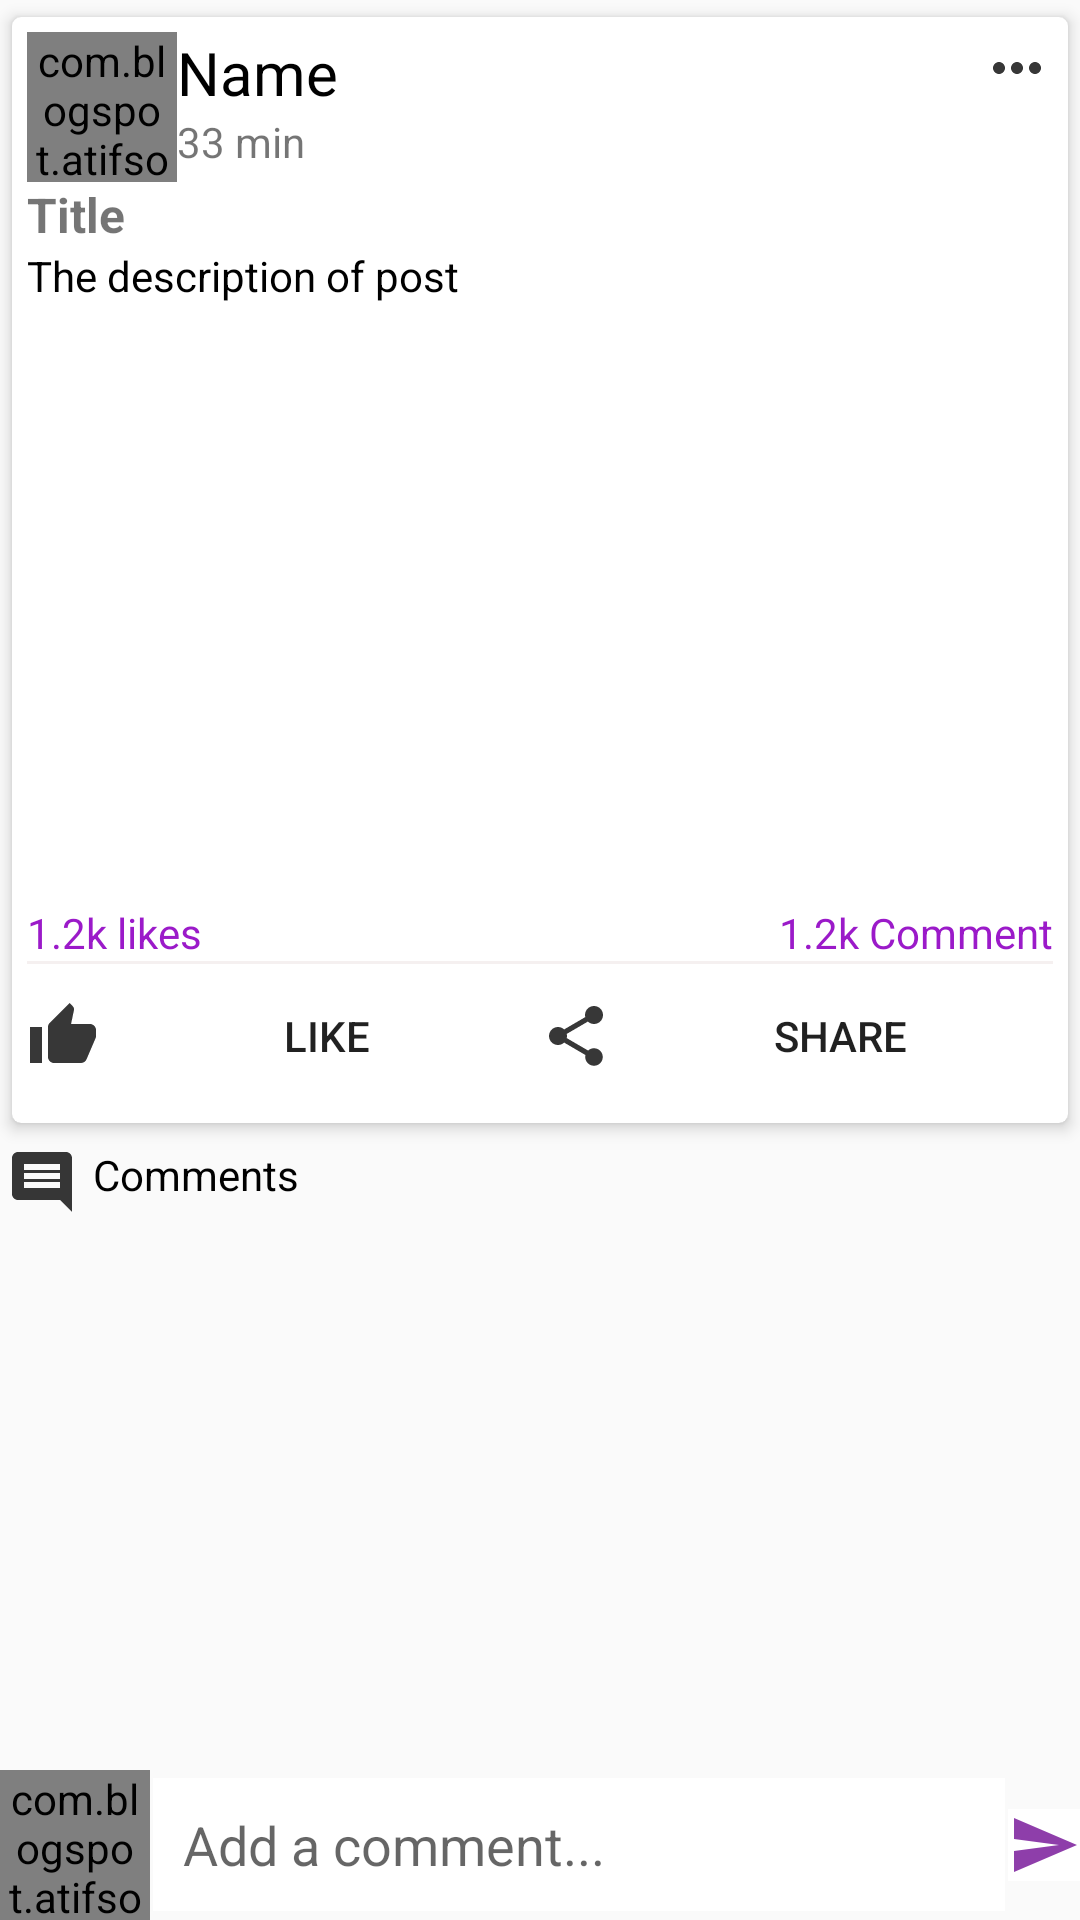

Icon click points for this 1080×1920 phone screenshot, format point (x, y):
more: point (1017, 68)
send: point (1045, 1845)
